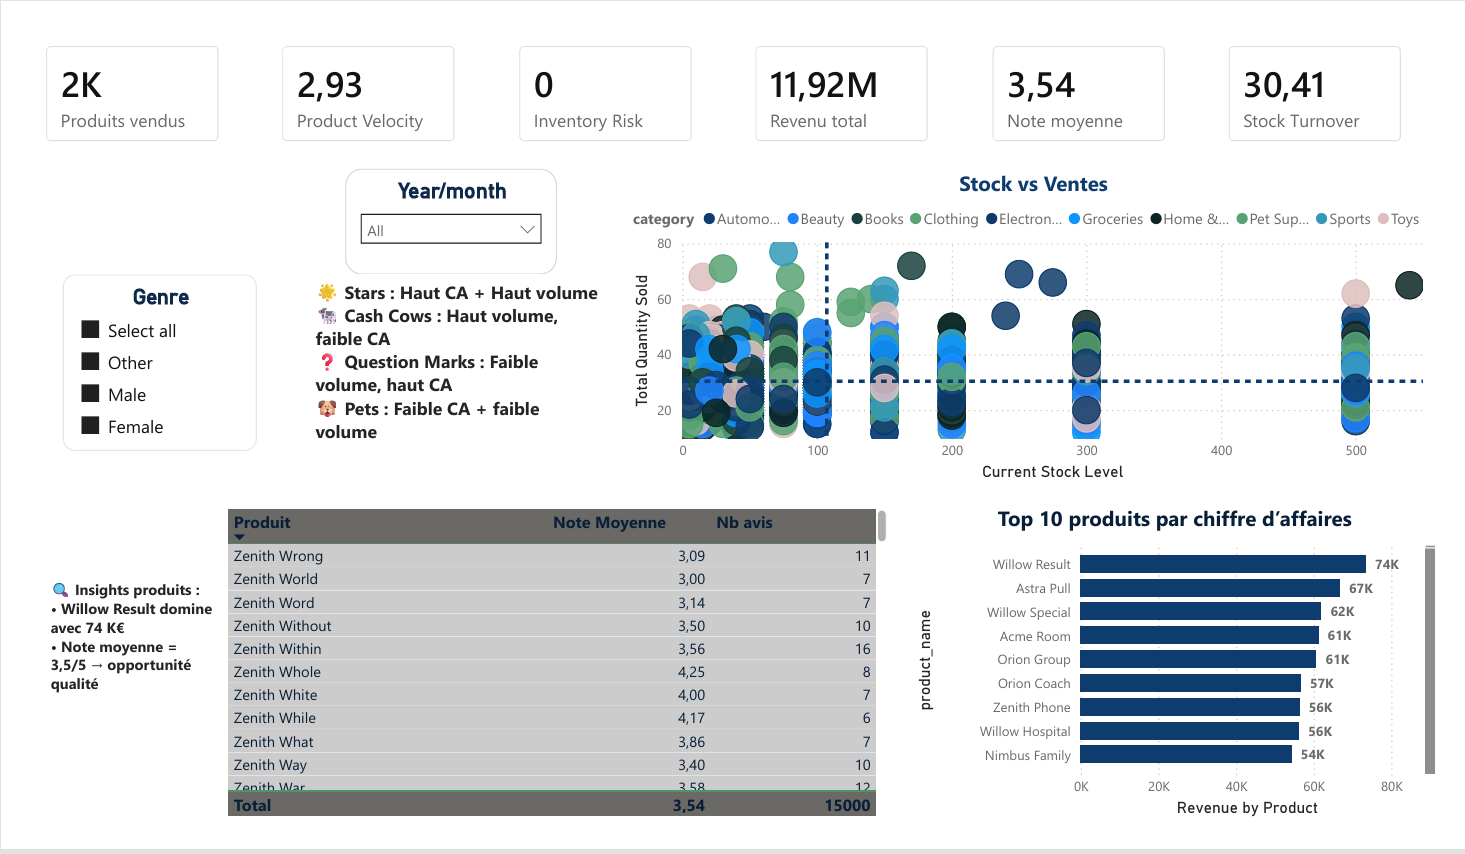

The page's visual inventory and layout, read from the dashboard file:
{"tool":"powerbi","page":{"name":"Product Performance","canvas":[1280,720],"ordinal":2},"visuals":[{"type":"cardVisual","fields":{"Data":["_Measures.Produits vendus"]},"box":[0,0,190,120],"z":0,"group":"g1"},{"type":"slicer","title":"Year/month","fields":{"Values":["DimDate.YearMonth"]},"box":[288,128,192,96],"z":0},{"type":"cardVisual","fields":{"Data":["_Measures.Revenu total"]},"box":[643.2,0,190,120],"z":1000,"group":"g1"},{"type":"slicer","title":"Genre","fields":{"Values":["Users.gender"]},"box":[32,224,176,160],"z":1000},{"type":"actionButton","box":[0,0,100,40],"z":2000},{"type":"cardVisual","fields":{"Data":["_Measures.Stock Turnover"]},"box":[1072,0,190,120],"z":2000,"group":"g1"},{"type":"group","id":"g1","title":"Group 1","box":[0,0,1262,120],"z":3000},{"type":"cardVisual","fields":{"Data":["DimDate.Product Velocity"]},"box":[214.4,0,190,120],"z":3000,"group":"g1"},{"type":"cardVisual","fields":{"Data":["_Measures.Note moyenne"]},"box":[857.6,0,190,120],"z":4000,"group":"g1"},{"type":"scatterChart","title":"Stock vs Ventes","fields":{"Series":["Products.category"],"Size":["_Measures.Revenu total"],"X":["_Measures.Current Stock Level"],"Y":["_Measures.Total Quantity Sold"],"Category":["Products.product_name"]},"box":[544,128,736,288],"z":4000},{"type":"cardVisual","fields":{"Data":["DimDate.Inventory Risk"]},"box":[428.8,0,190,120],"z":5000,"group":"g1"},{"type":"barChart","title":"Top 10 produits par chiffre d’affaires","fields":{"Category":["Products.product_name"],"Y":["DimDate.Revenue by Product"]},"box":[800,432,480,288],"z":5000},{"type":"tableEx","fields":{"Values":["Products.product_name","Avg(Reviews.rating)","Reviews.review_id"]},"box":[176,432,608,288],"z":6000},{"type":"textbox","box":[256,224,272,176],"z":7000},{"type":"textbox","box":[16,496,160,128],"z":8000}]}

Visuals, with their boxes on the page's 1280x720 design canvas (x1, y1, x2, y2). These are canvas units, not pixel positions in the 1465x854 screenshot, which may show the page scaled, cropped or inside an application window:
cardVisual - _Measures.Produits vendus: detection(0, 0, 190, 120)
"Year/month" slicer: detection(288, 128, 480, 224)
cardVisual - _Measures.Revenu total: detection(643, 0, 833, 120)
"Genre" slicer: detection(32, 224, 208, 384)
actionButton: detection(0, 0, 100, 40)
cardVisual - _Measures.Stock Turnover: detection(1072, 0, 1262, 120)
"Group 1" group: detection(0, 0, 1262, 120)
cardVisual - DimDate.Product Velocity: detection(214, 0, 404, 120)
cardVisual - _Measures.Note moyenne: detection(858, 0, 1048, 120)
"Stock vs Ventes" scatterChart: detection(544, 128, 1280, 416)
cardVisual - DimDate.Inventory Risk: detection(429, 0, 619, 120)
"Top 10 produits par chiffre d’affaires" barChart: detection(800, 432, 1280, 720)
tableEx - Products.product_name x Avg(Reviews.rating): detection(176, 432, 784, 720)
textbox: detection(256, 224, 528, 400)
textbox: detection(16, 496, 176, 624)
